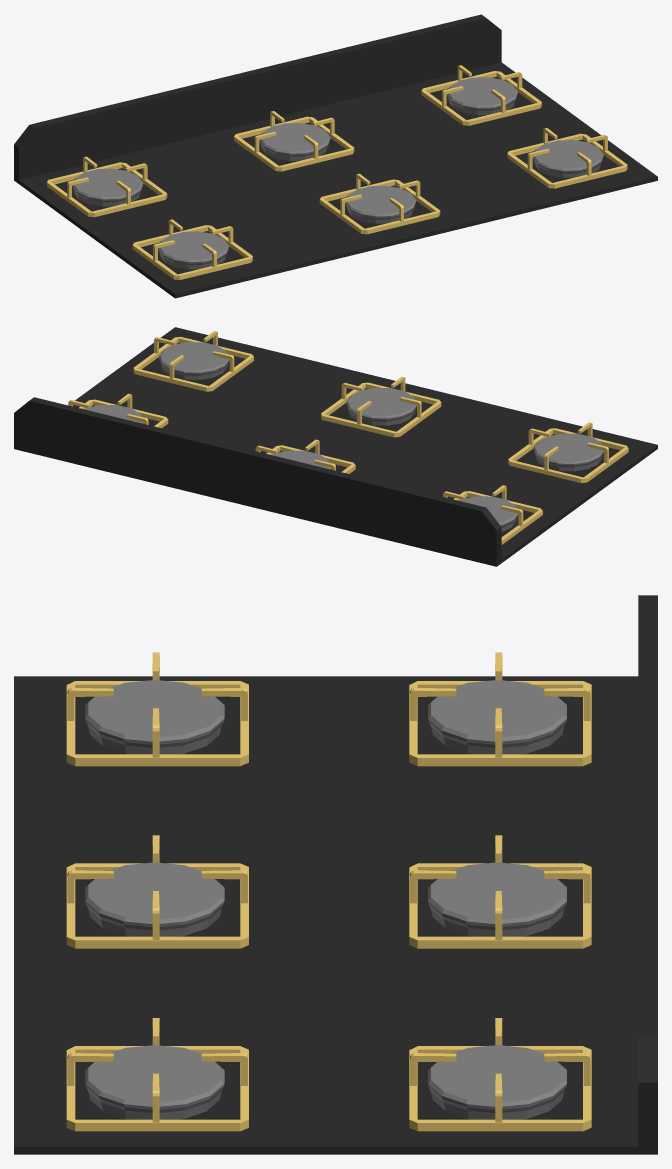
The model's file is Gas Cooker_4.fbx.
3 views of the same model, one above another, from view 1: azimuth 30°, elevation 25°; view 2: azimuth 150°, elevation 25°; view 3: azimuth 270°, elevation 25° (orthographic). The views are drawn at different scales.
Parts seen in each view (by area): view 1: Gas Cooker_4; view 2: Gas Cooker_4; view 3: Gas Cooker_4.
Boxes of the visible parts, x1,y1,x2,y2 form: Gas Cooker_4: (14, 14, 657, 298); Gas Cooker_4: (14, 327, 657, 566); Gas Cooker_4: (14, 595, 657, 1154).
Size of the model in its own units: 0.8847 by 0.0911 by 0.5117.
